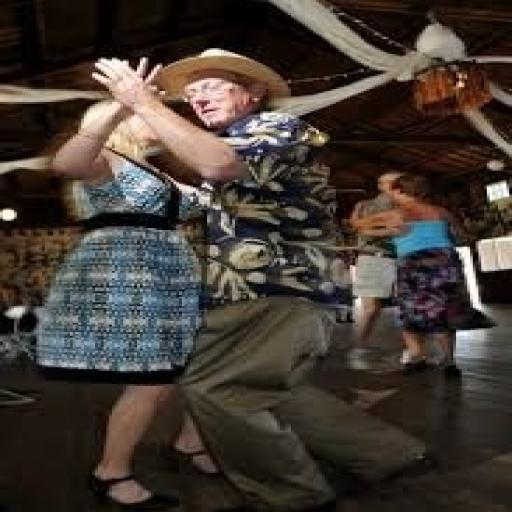dancing: (0, 51, 355, 511)
